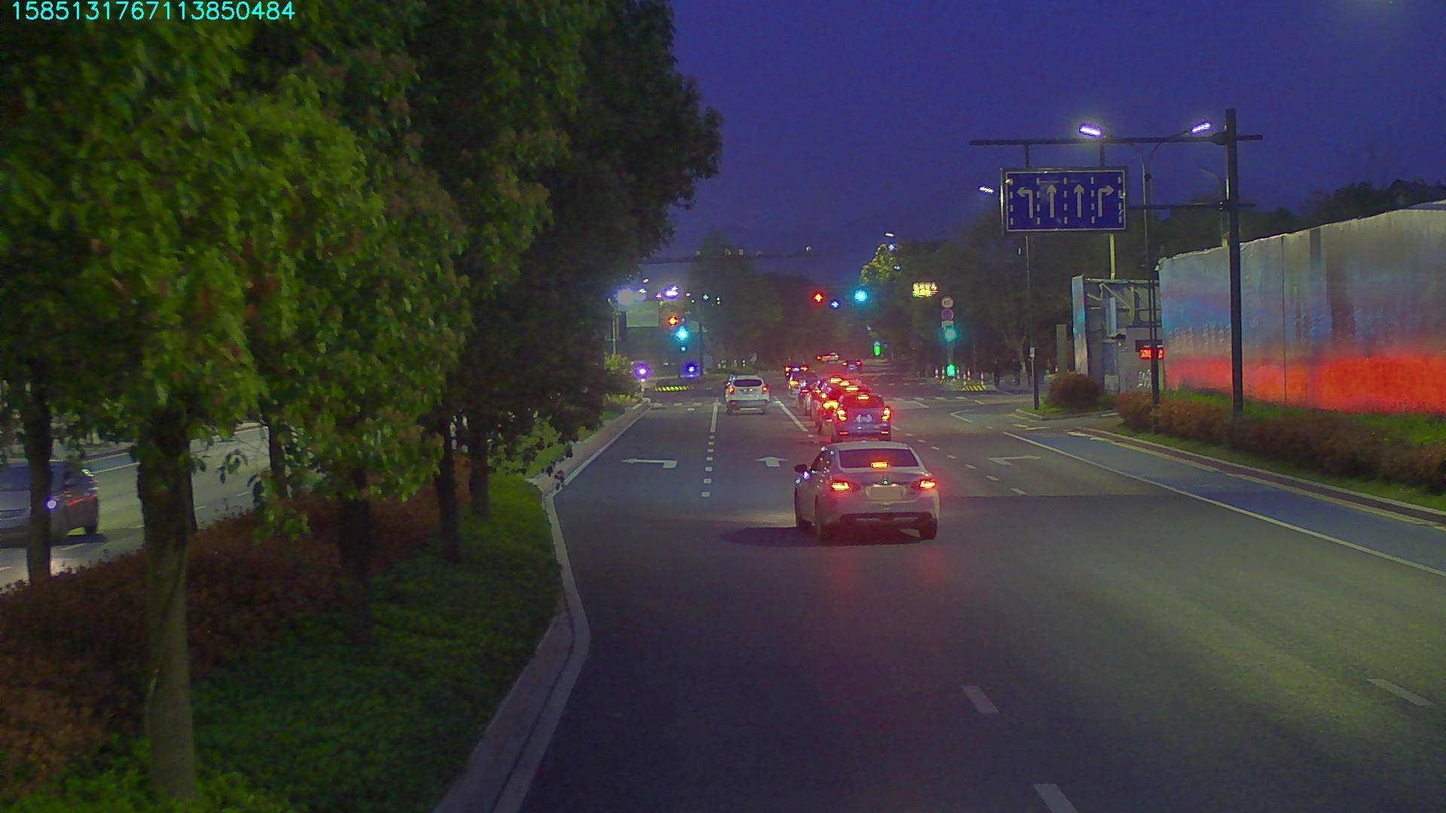green: (853, 288, 868, 301)
red: (804, 285, 825, 309)
